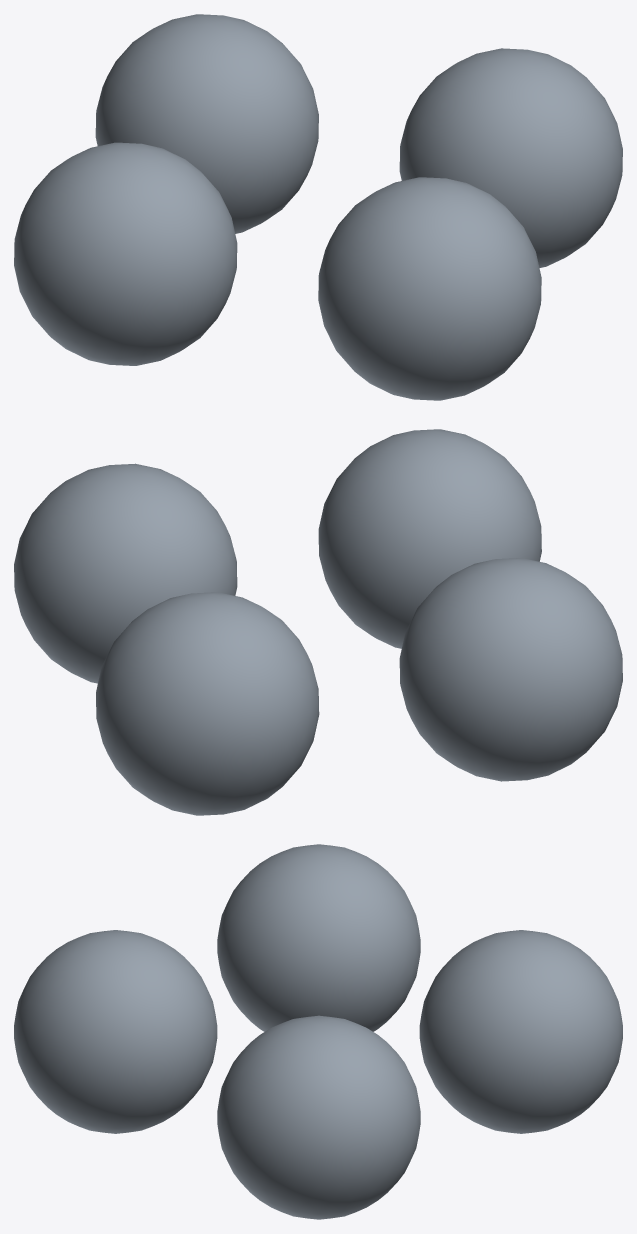
3 views of the same model, one above another, from view 1: azimuth 30°, elevation 25°; view 2: azimuth 150°, elevation 25°; view 3: azimuth 270°, elevation 25° (orthographic). The views are drawn at different scales.
Parts seen in each view (by area): view 1: GeoSphere604; view 2: GeoSphere604; view 3: GeoSphere604.
Boxes of the visible parts, <box> form: GeoSphere604: <box>14,14,622,400</box>; GeoSphere604: <box>14,429,622,815</box>; GeoSphere604: <box>14,844,622,1219</box>.
Bounding box in the file's own units: 119 × 40 × 119.
1 material, 1 textured.
